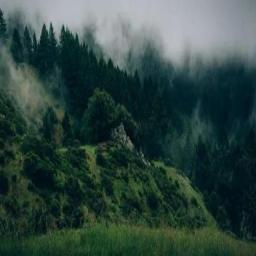Heavy smoke: (5, 0, 256, 65)
